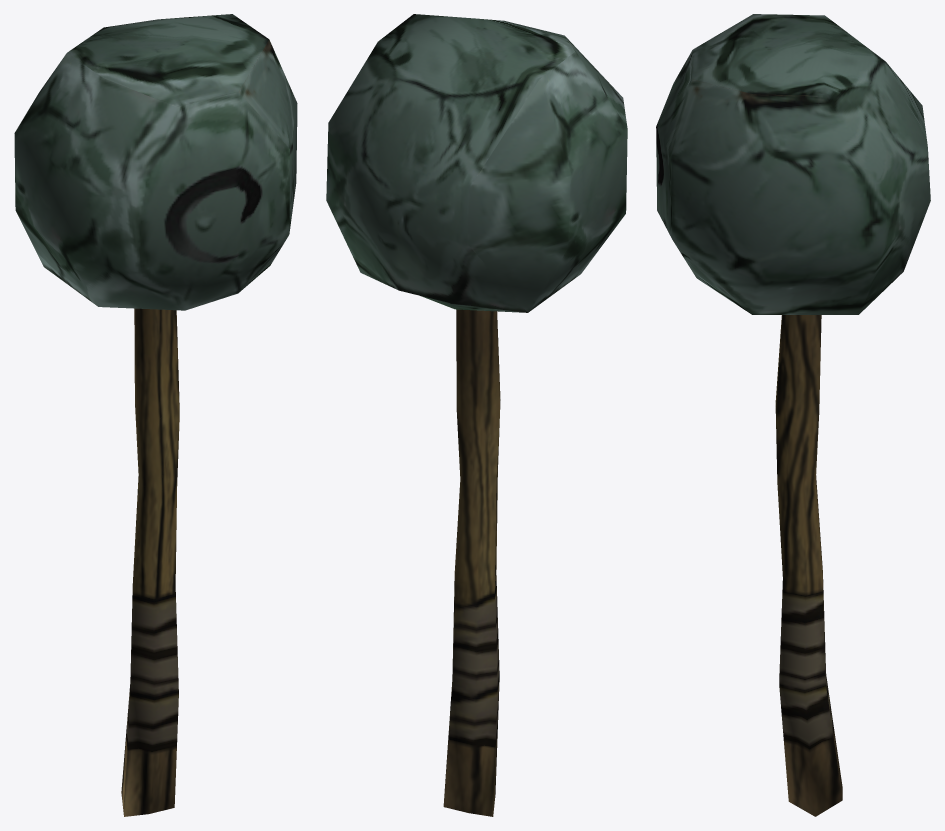
File: WP_1H_Mace02.FBX
The picture shows the model from 3 angles, left to right: view 1: azimuth 30°, elevation 25°; view 2: azimuth 150°, elevation 25°; view 3: azimuth 270°, elevation 25°; orthographic projection. The views are drawn at different scales.
Visible parts, largest first — view 1: WP_1H_Mace02; view 2: WP_1H_Mace02; view 3: WP_1H_Mace02.
Boxes of the visible parts, box(x1,y1,x2,y2) form: WP_1H_Mace02: box(14, 14, 297, 816); WP_1H_Mace02: box(326, 14, 627, 816); WP_1H_Mace02: box(656, 14, 930, 816).
Size of the model in its own units: 25.04 by 78.58 by 25.6.
